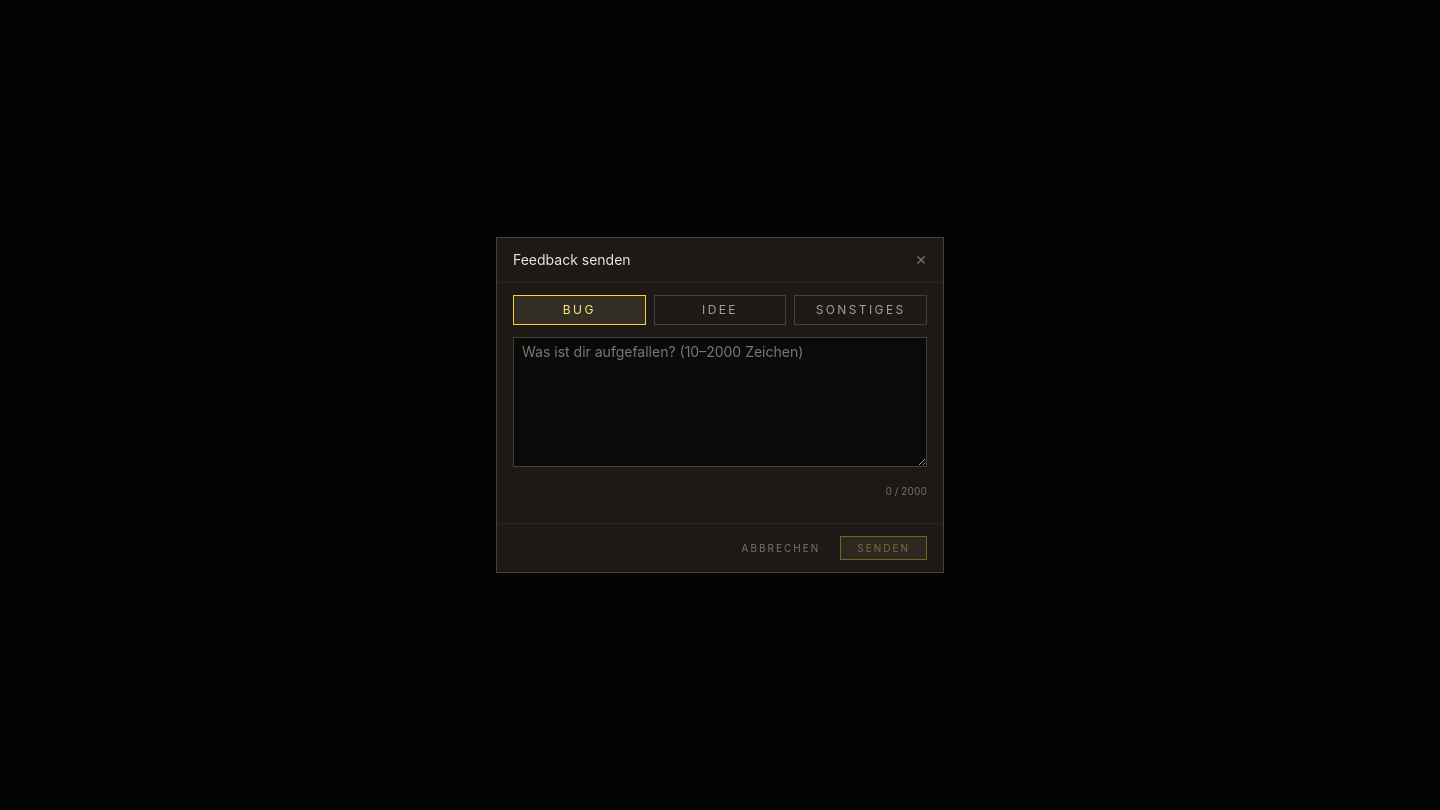
Test: FeedbackDialog › zeigt Fehlertext bei Backend-Reject
This screenshot has width=1440, height=810.
Type "Ein Feedback das vom Backend abgelehnt wird." into the text box with test id "feedback-message" at (720, 402), box [513,337,927,467]
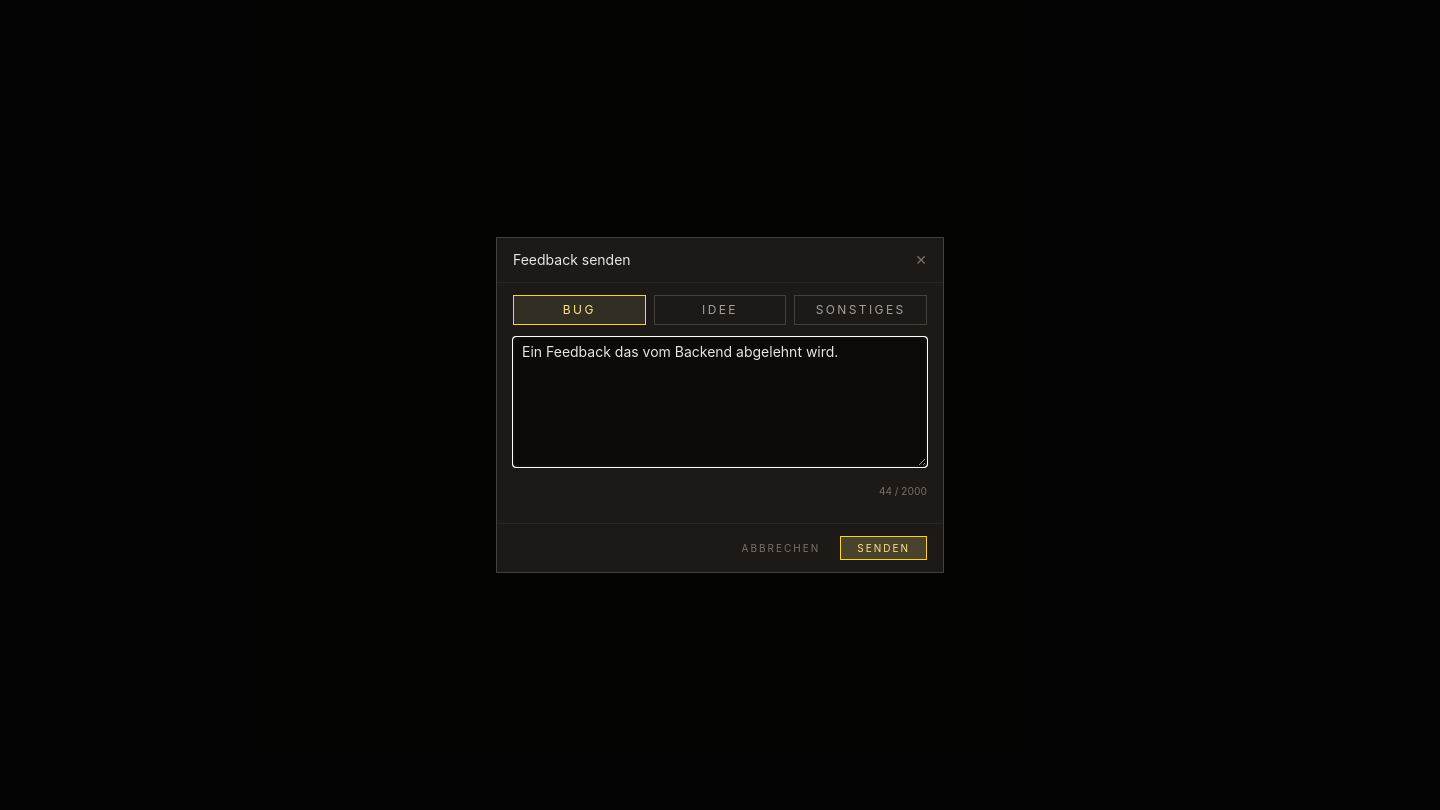
Click the button with test id "feedback-submit" at (884, 548), box [840,536,927,560]
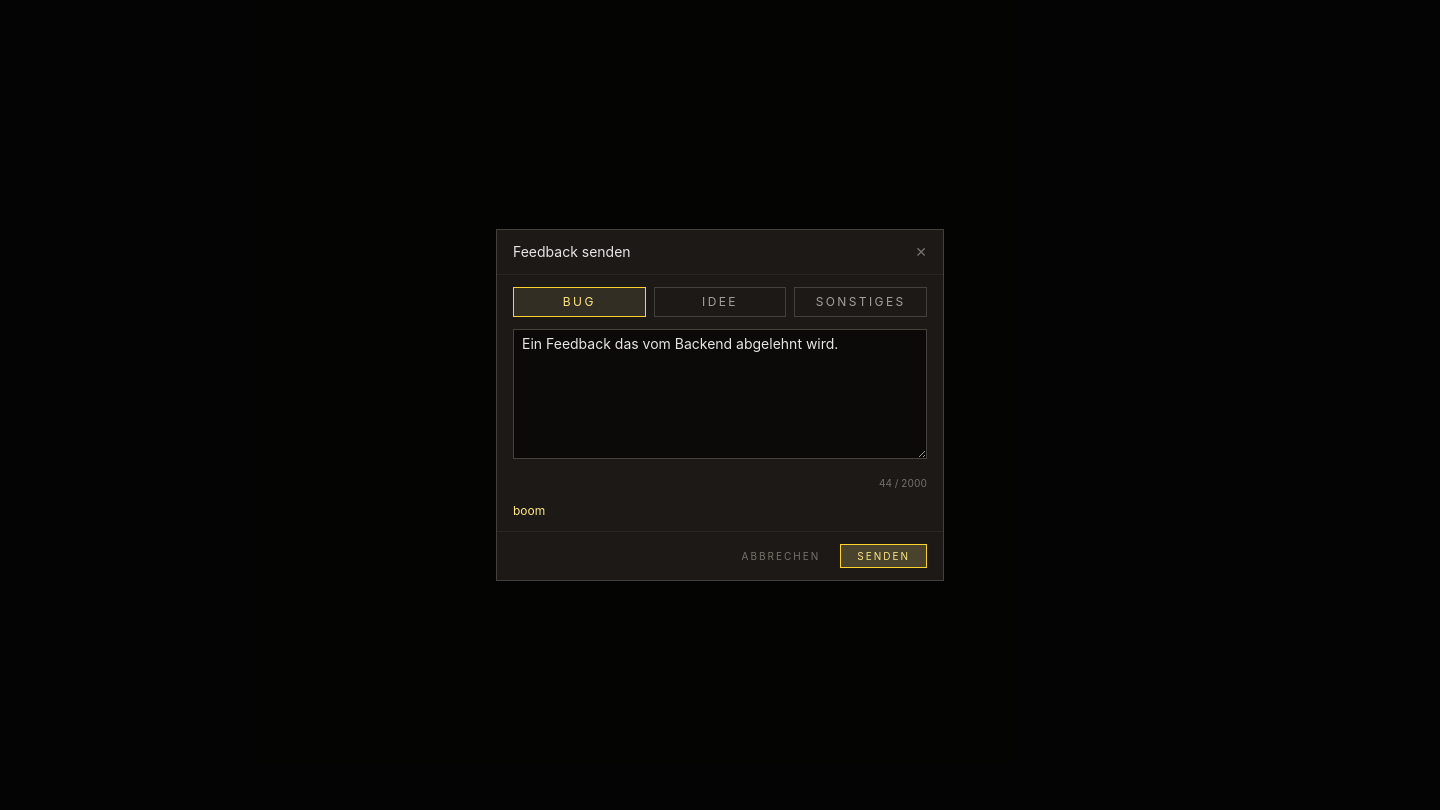
Expected: the text with test id "feedback-status" reads "boom", [513,502,545,518]
